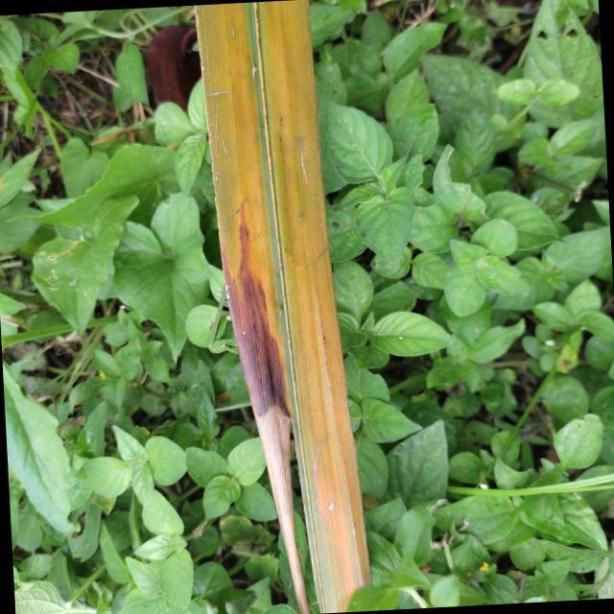Megnesium: (193, 0, 372, 614)
